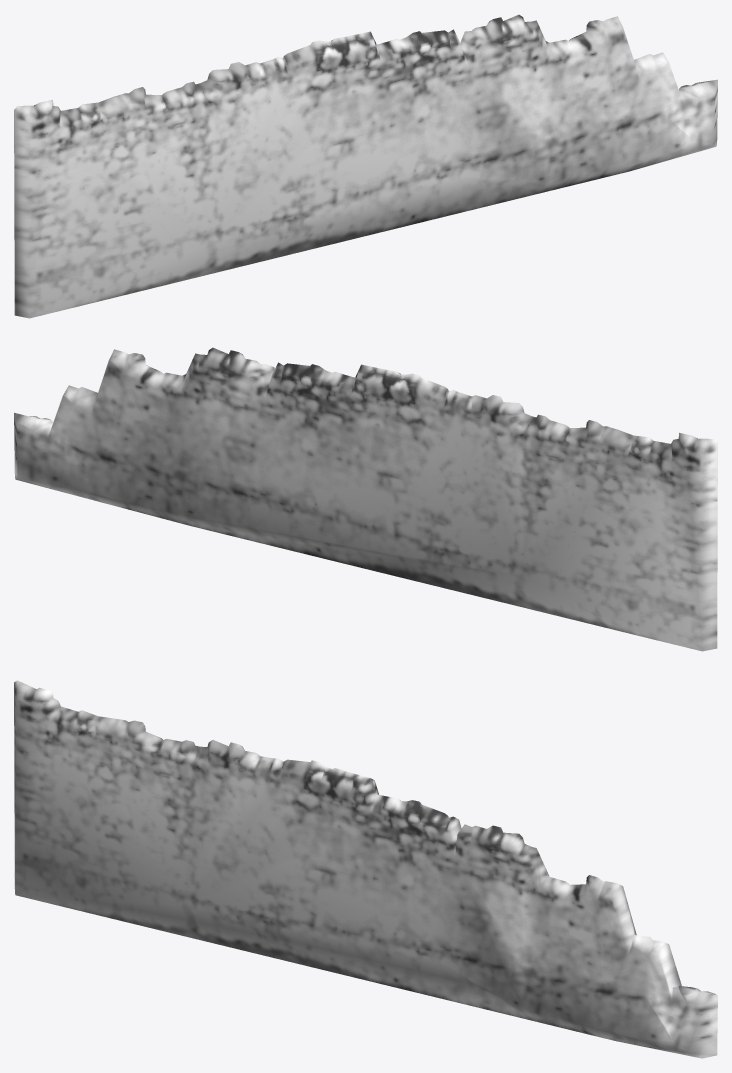
The model's file is Ruins_BigWall011.fbx.
3 renders of one model, top to bottom at view 1: azimuth 30°, elevation 25°; view 2: azimuth 150°, elevation 25°; view 3: azimuth 330°, elevation 25°, orthographic.
Visible parts, largest first — view 1: Ruins_BigWall011; view 2: Ruins_BigWall011; view 3: Ruins_BigWall011.
Part boxes in pixels (left/top/right/bottom): Ruins_BigWall011: left=14, top=14, right=717, bottom=318; Ruins_BigWall011: left=14, top=347, right=717, bottom=651; Ruins_BigWall011: left=14, top=680, right=717, bottom=1058.
Bounding box in the file's own units: 1211 × 343 × 76.58.
